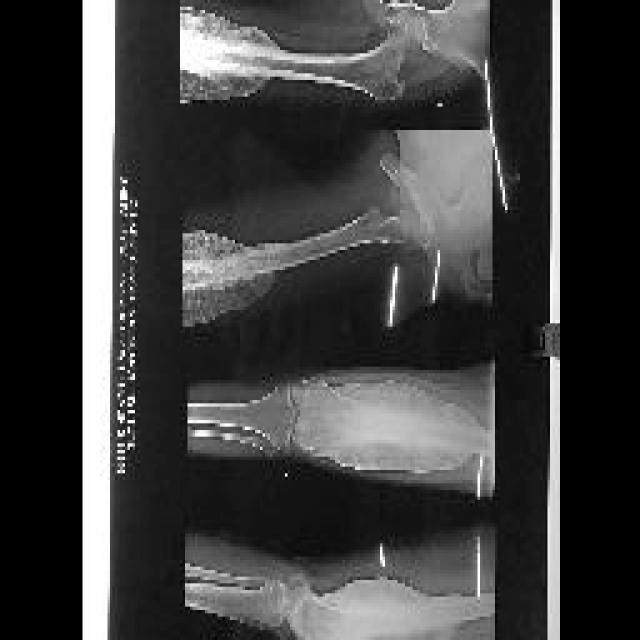bone-cancer: (320, 373, 478, 490), (182, 227, 282, 340), (178, 0, 275, 113), (318, 570, 470, 640)
